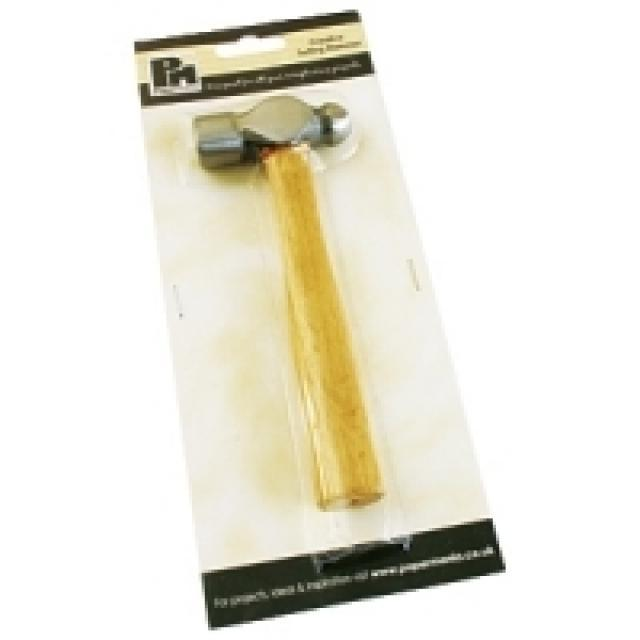hammer: (177, 85, 417, 518)
